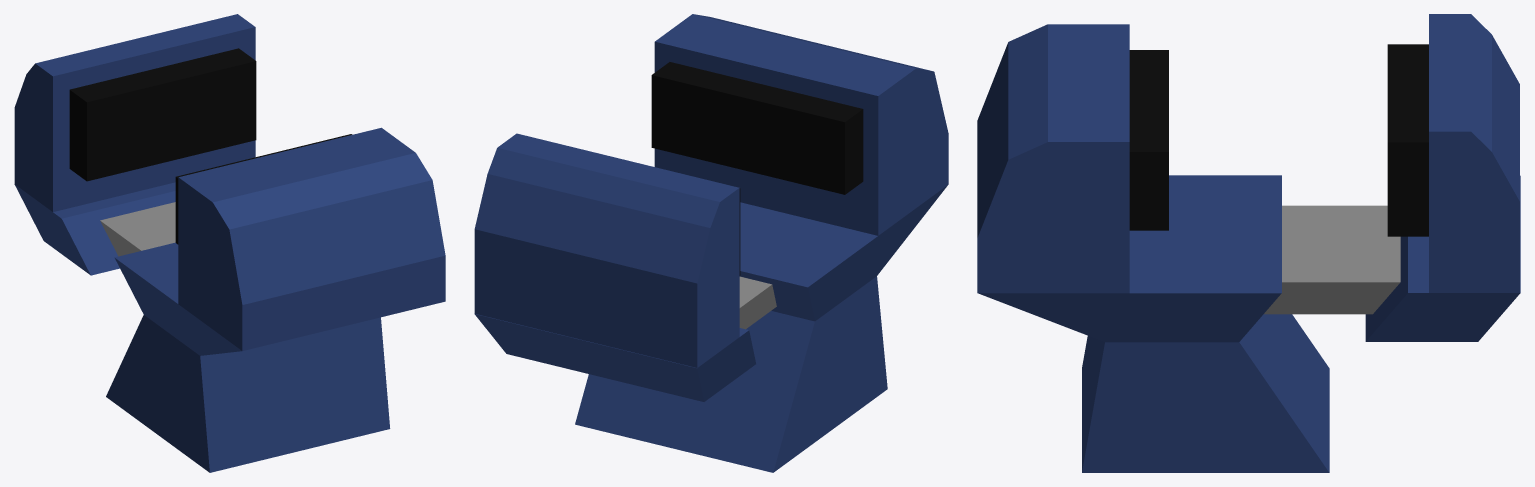
File: Vice.fbx
3 renders of one model, left to right at view 1: azimuth 30°, elevation 25°; view 2: azimuth 150°, elevation 25°; view 3: azimuth 270°, elevation 25°, orthographic. The views are drawn at different scales.
Parts seen in each view (by area): view 1: Cube; view 2: Cube; view 3: Cube.
Boxes of the visible parts, bbox=[...] form: Cube: bbox=[14, 14, 445, 472]; Cube: bbox=[474, 14, 948, 472]; Cube: bbox=[977, 14, 1520, 472].
Bounding box in the file's own units: 225 × 310 × 439.
